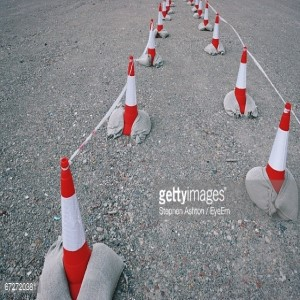traffic cone: (55, 157, 97, 300), (261, 102, 300, 206), (120, 55, 142, 136), (233, 47, 252, 113), (146, 18, 158, 66), (210, 12, 224, 52)
